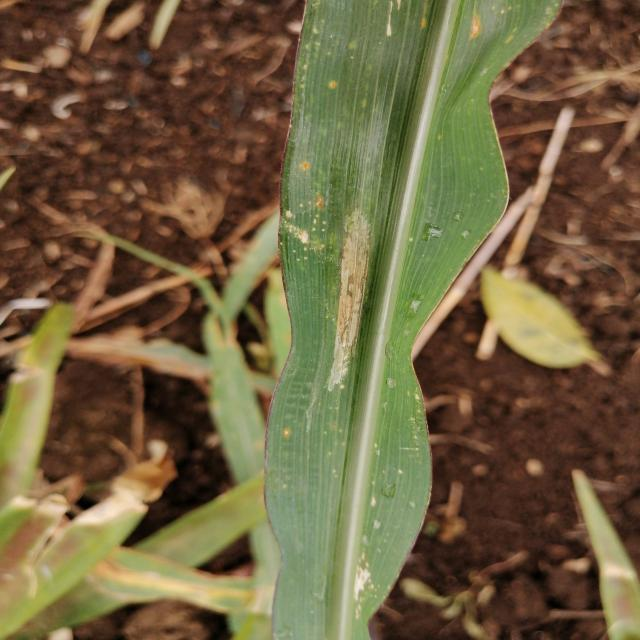Corn_Leaf_Blight: (252, 0, 508, 612)
